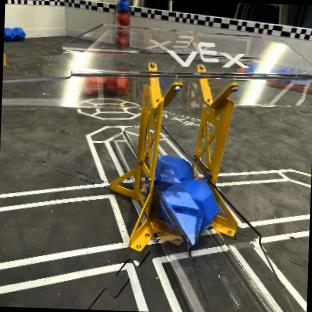V5_BLUE: (155, 156, 192, 182), (4, 27, 25, 41)
V5_RED: (105, 77, 129, 94), (84, 77, 100, 94)
